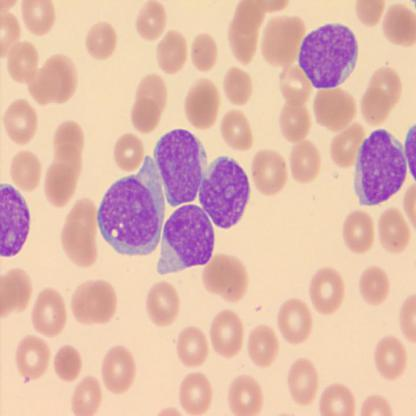Blast: (96, 152, 168, 258), (154, 200, 218, 282), (296, 19, 362, 94), (352, 125, 409, 210), (194, 153, 254, 233), (152, 127, 209, 211)
